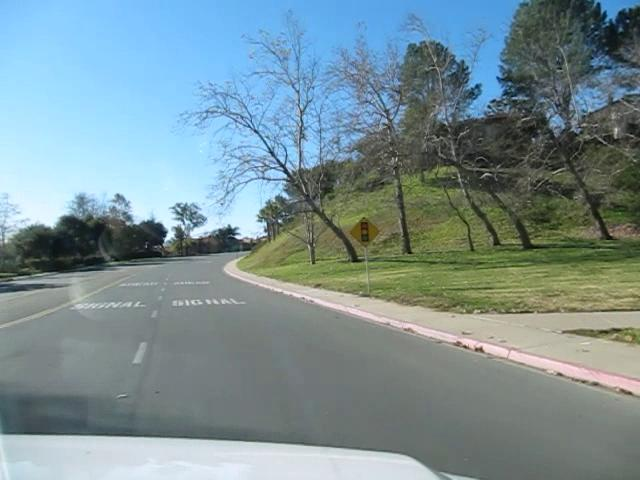signalAhead: (348, 215, 381, 248)
